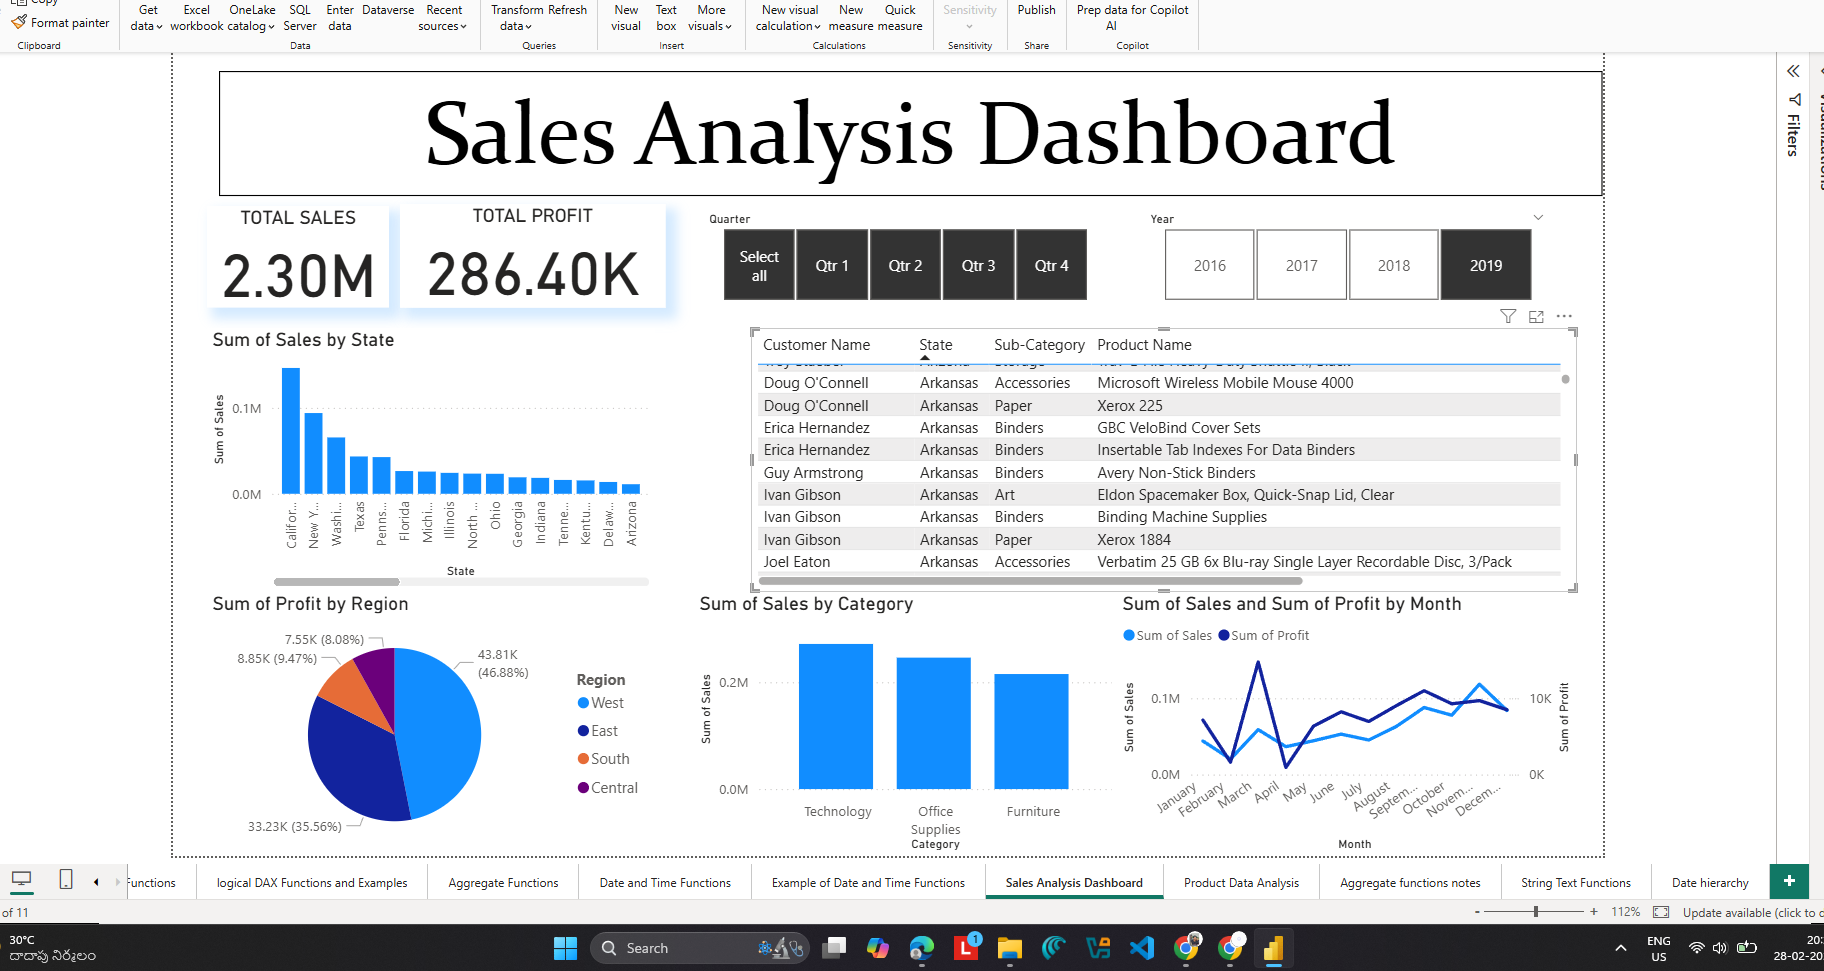

This screenshot's page, from the dashboard's own definition file:
{"tool":"powerbi","page":{"name":"Page 1","canvas":[1280,720],"ordinal":0},"visuals":[{"type":"textbox","box":[41.1,16.7,1238.9,111.8],"z":0},{"type":"card","title":"TOTAL SALES","fields":{"Values":["Sum(Summarize table.total sales)"]},"box":[30.8,137.5,163.2,91.2],"z":1},{"type":"card","title":"TOTAL PROFIT","fields":{"Values":["Sum(Summarize table.total profit)"]},"box":[203.1,136.2,237.8,92.5],"z":2},{"type":"slicer","fields":{"Values":["Orders.Order Date.Variation.Date Hierarchy.Quarter"]},"box":[467.8,137.5,375.3,91.2],"z":3},{"type":"columnChart","fields":{"Category":["Orders.State"],"Y":["Sum(Orders.Sales)"]},"box":[30.8,246.7,401,236.5],"z":4},{"type":"tableEx","fields":{"Values":["Orders.Customer Name","Orders.State","Orders.Sub-Category","Orders.Product Name","Orders.Order Date.Variation.Date Hierarchy.Year"]},"box":[517.9,246.7,739,236.5],"z":5},{"type":"lineChart","fields":{"Y":["Sum(Orders.Sales)"],"Category":["Orders.Order Date.Variation.Date Hierarchy.Month"],"Y2":["Sum(Orders.Profit)"]},"box":[845.6,483.2,411.2,236.5],"z":6},{"type":"columnChart","fields":{"Category":["Orders.Category"],"Y":["Sum(Orders.Sales)"]},"box":[466.5,483.2,379.1,236.5],"z":7},{"type":"slicer","fields":{"Values":["Orders.Order Date.Variation.Date Hierarchy.Year"]},"box":[862.3,137.5,377.8,91.2],"z":8},{"type":"pieChart","fields":{"Category":["Orders.Region"],"Y":["Sum(Orders.Profit)"]},"box":[30.8,483.2,401,236.5],"z":9}]}

Visuals, with their boxes on the page's 1280x720 design canvas (x1, y1, x2, y2). These are canvas units, not pixel positions in the 1824x971 screenshot, which may show the page scaled, cropped or inside an application window:
textbox: <bbox>41, 17, 1280, 128</bbox>
"TOTAL SALES" card: <bbox>31, 138, 194, 229</bbox>
"TOTAL PROFIT" card: <bbox>203, 136, 441, 229</bbox>
slicer - Orders.Order Date.Variation.Date Hierarchy.Quarter: <bbox>468, 138, 843, 229</bbox>
columnChart - Orders.State x Sum(Orders.Sales): <bbox>31, 247, 432, 483</bbox>
tableEx - Orders.Customer Name x Orders.State: <bbox>518, 247, 1257, 483</bbox>
lineChart - Sum(Orders.Sales) x Orders.Order Date.Variation.Date Hierarchy.Month: <bbox>846, 483, 1257, 720</bbox>
columnChart - Orders.Category x Sum(Orders.Sales): <bbox>466, 483, 846, 720</bbox>
slicer - Orders.Order Date.Variation.Date Hierarchy.Year: <bbox>862, 138, 1240, 229</bbox>
pieChart - Orders.Region x Sum(Orders.Profit): <bbox>31, 483, 432, 720</bbox>
